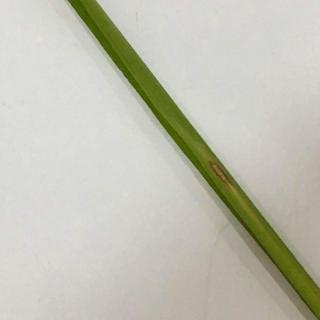Blast: (194, 133, 247, 211)
